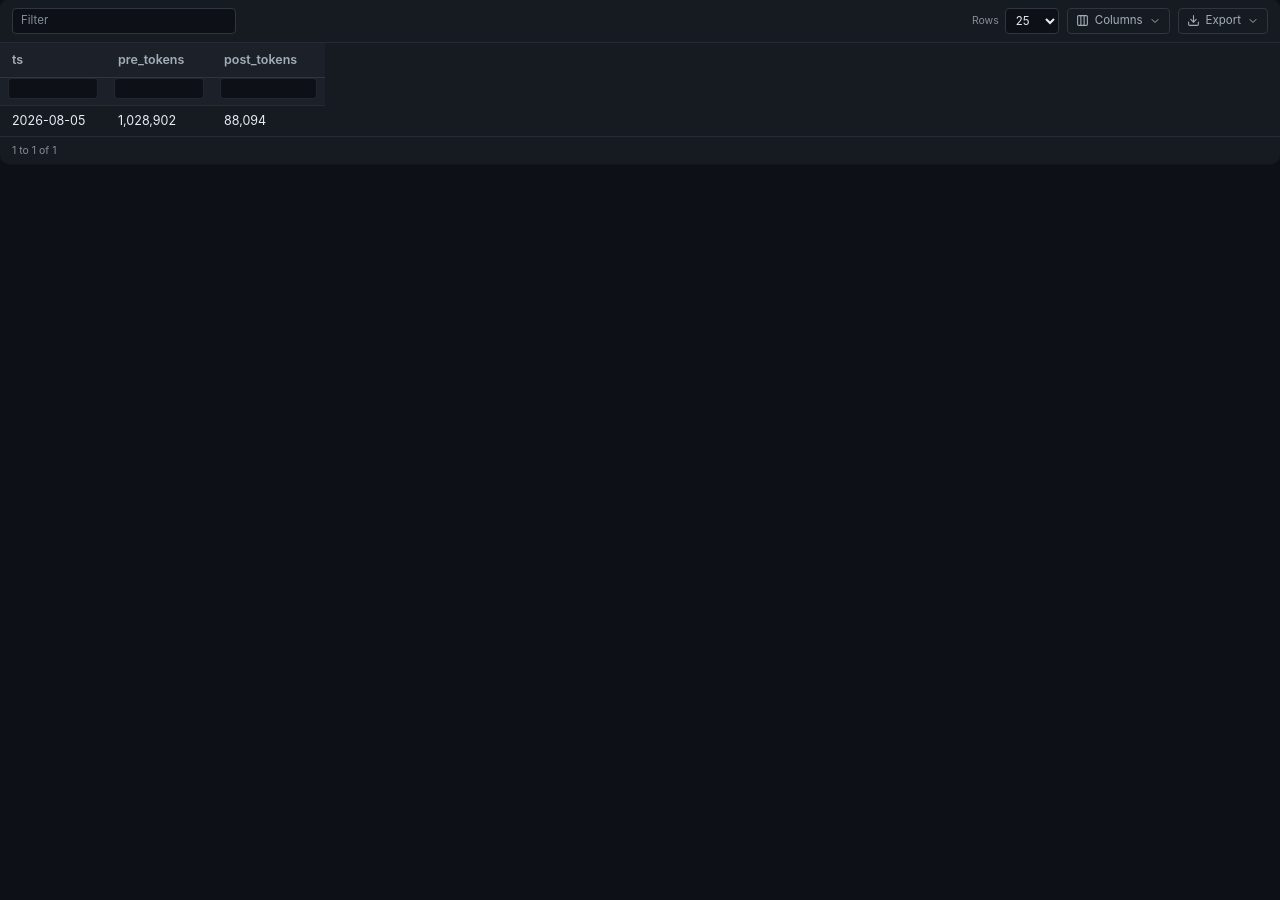
a compaction row › reports a failed fetch rather than leaving the drawer waiting forever
The image size is (1280, 900).
Click the text "2026-08-05" at (162, 120), box [0, 105, 325, 136]
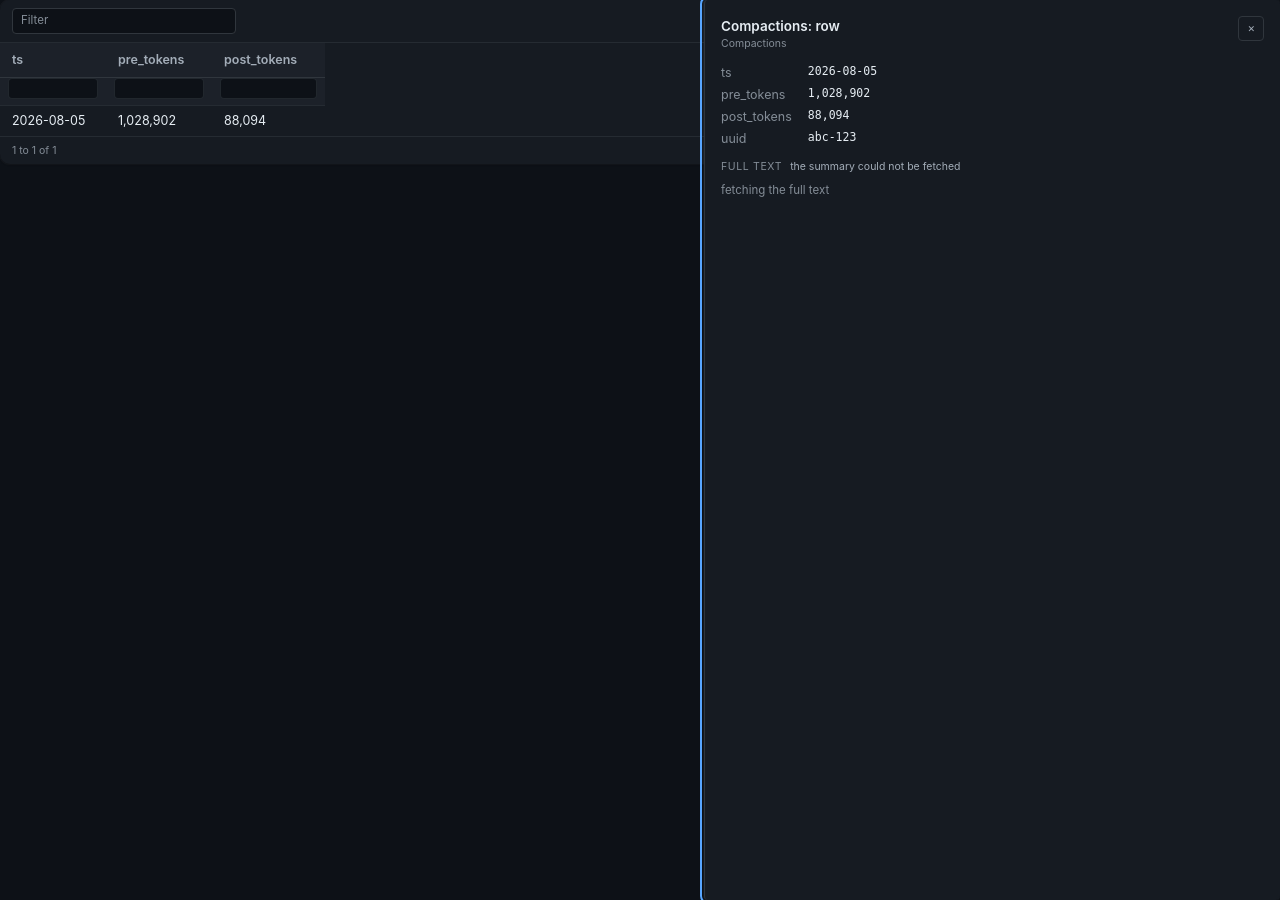
Result: the text "the summary could not be fetched" is shown at [790, 159, 960, 175]
